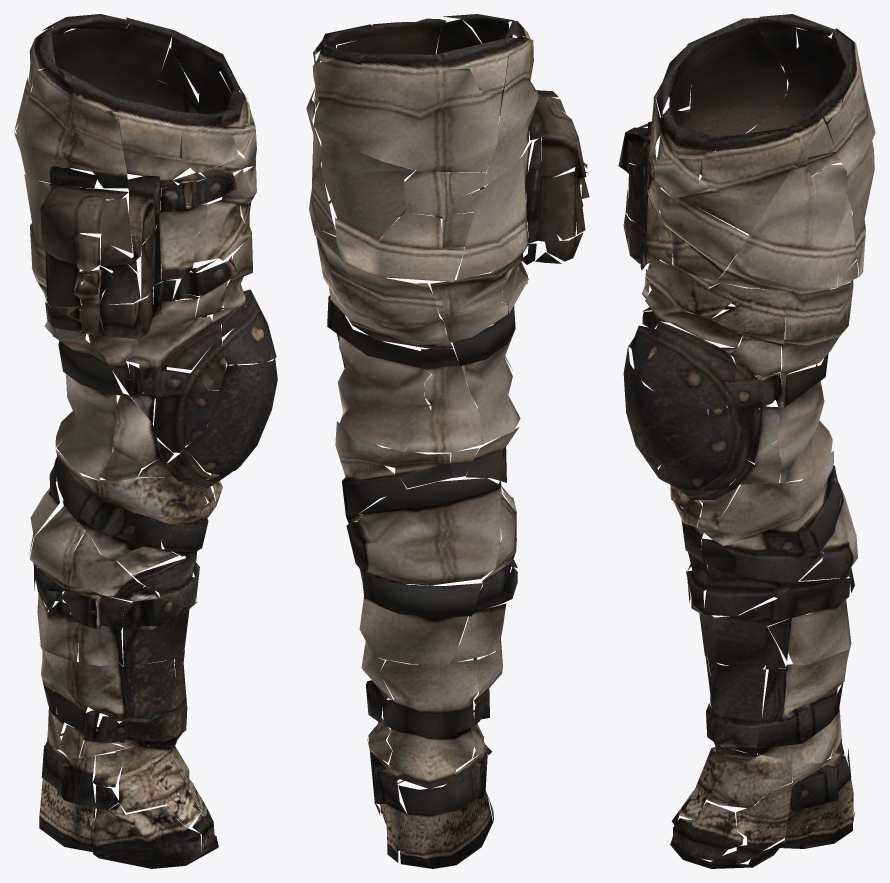
File: a_ward_greaves.glb
3 renders of one model, left to right at view 1: azimuth 30°, elevation 25°; view 2: azimuth 150°, elevation 25°; view 3: azimuth 270°, elevation 25°, orthographic. The views are drawn at different scales.
Parts seen in each view (by area): view 1: tripo_node_50fa23ae-e174-44a2-a016-1e0c5b5d46d9; view 2: tripo_node_50fa23ae-e174-44a2-a016-1e0c5b5d46d9; view 3: tripo_node_50fa23ae-e174-44a2-a016-1e0c5b5d46d9.
Boxes of the visible parts, <box> form: tripo_node_50fa23ae-e174-44a2-a016-1e0c5b5d46d9: <box>14,14,277,868</box>; tripo_node_50fa23ae-e174-44a2-a016-1e0c5b5d46d9: <box>306,14,589,868</box>; tripo_node_50fa23ae-e174-44a2-a016-1e0c5b5d46d9: <box>618,14,875,868</box>.
Bounding box in the file's own units: 0.0958 × 0.3195 × 0.0936.
Materials: 1 (1 with a texture image).
